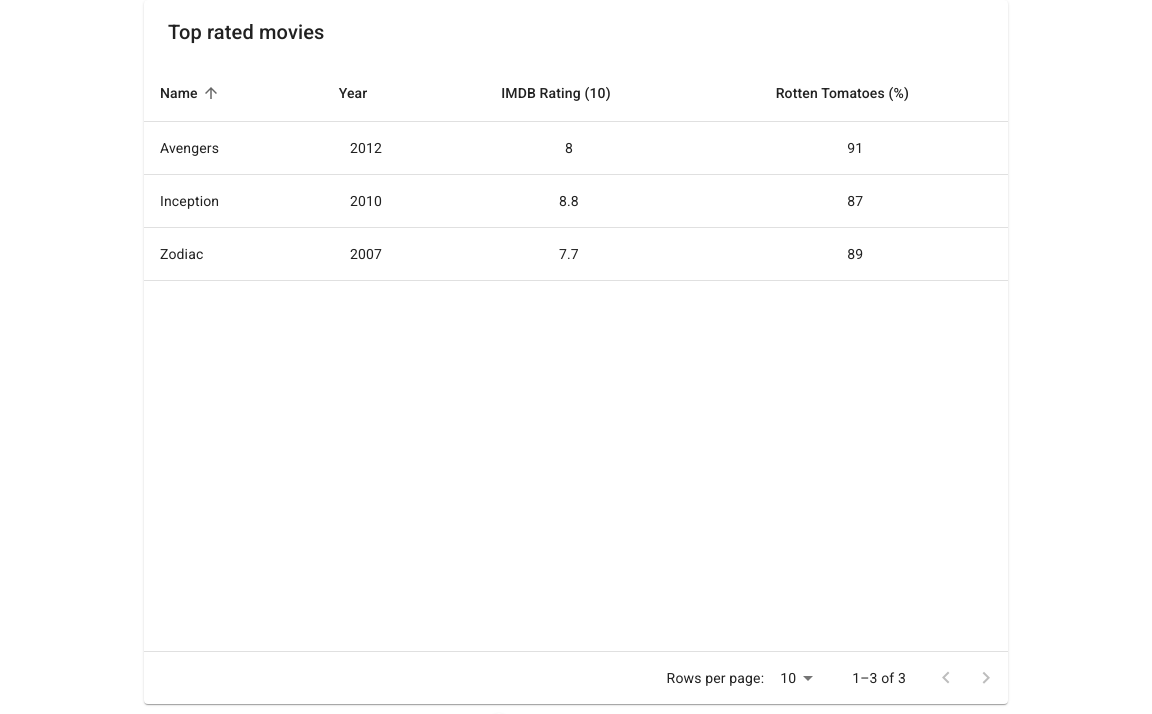
Test: TopRatedMovies sorting behavior › should sort movies by year descending when Year column is clicked twice
Expected: the text "Inception" is shown, [144, 175, 297, 228]
Note: First click: activates Year column ascending (oldest first)
Click the button "Year": (353, 93) [339, 85, 367, 101]
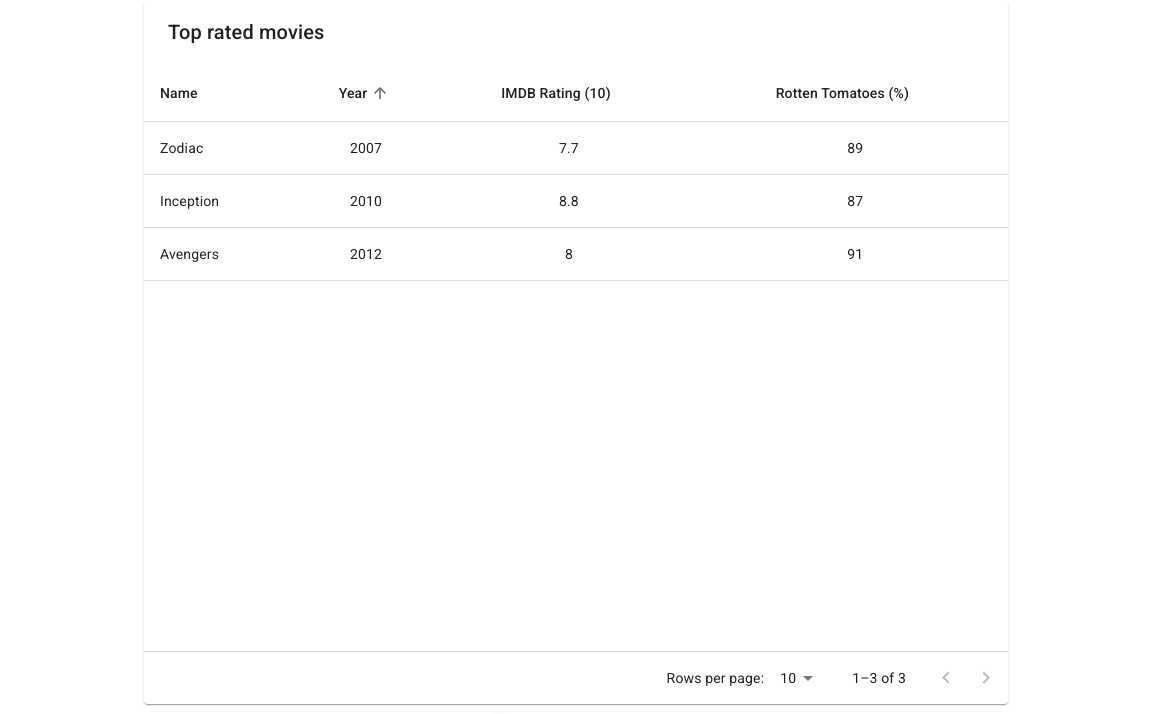
Note: Second click: flips to descending (most recent first)
Click the button "Year": (366, 93) [339, 81, 393, 105]
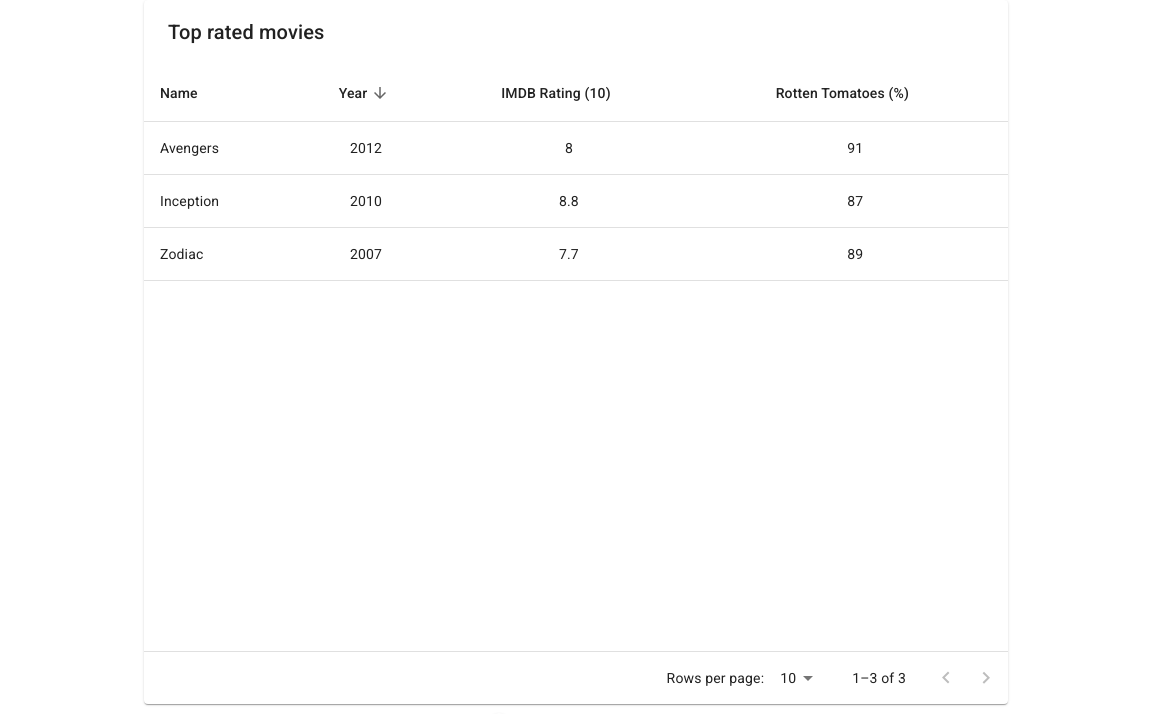
Expected: the row "Avengers 2012 8 91" is shown, [144, 122, 1008, 175]
